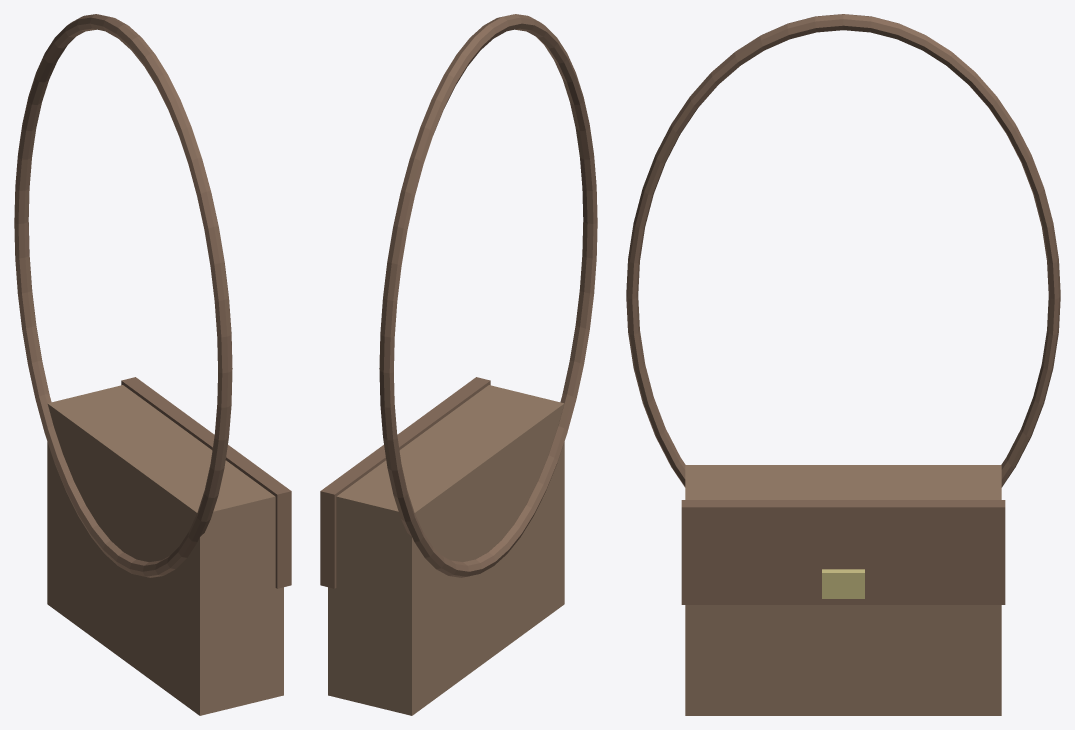
The model's file is acc_bag.glb.
The picture shows the model from 3 angles, left to right: view 1: azimuth 30°, elevation 25°; view 2: azimuth 150°, elevation 25°; view 3: azimuth 270°, elevation 25°; orthographic projection. The views are drawn at different scales.
Visible parts, largest first — view 1: acc_bag; view 2: acc_bag; view 3: acc_bag.
Boxes of the visible parts, bbox=[...] form: acc_bag: bbox=[14, 14, 291, 715]; acc_bag: bbox=[320, 14, 597, 715]; acc_bag: bbox=[626, 14, 1060, 715].
Size of the model in its own units: 0.0872 by 0.506 by 0.3024.
